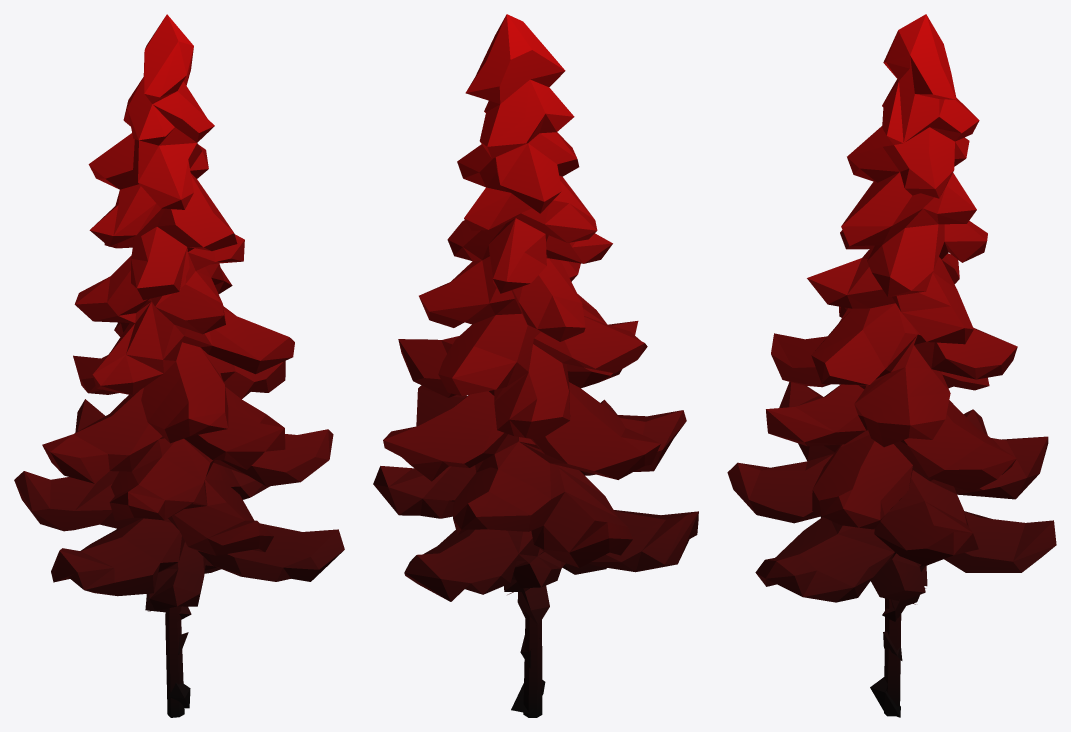
File: TreeSpruce05_Snow.fbx
The picture shows the model from 3 angles, left to right: view 1: azimuth 30°, elevation 25°; view 2: azimuth 150°, elevation 25°; view 3: azimuth 270°, elevation 25°; orthographic projection. The views are drawn at different scales.
Visible parts, largest first — view 1: TreeSpruce05_Snow_LOD0; view 2: TreeSpruce05_Snow_LOD0; view 3: TreeSpruce05_Snow_LOD0.
Part boxes in pixels (bbox=[...]): TreeSpruce05_Snow_LOD0: bbox=[14, 14, 344, 717]; TreeSpruce05_Snow_LOD0: bbox=[373, 14, 698, 717]; TreeSpruce05_Snow_LOD0: bbox=[727, 14, 1056, 717].
Size of what is drawn, in the model's own units: 144 by 346 by 147.
